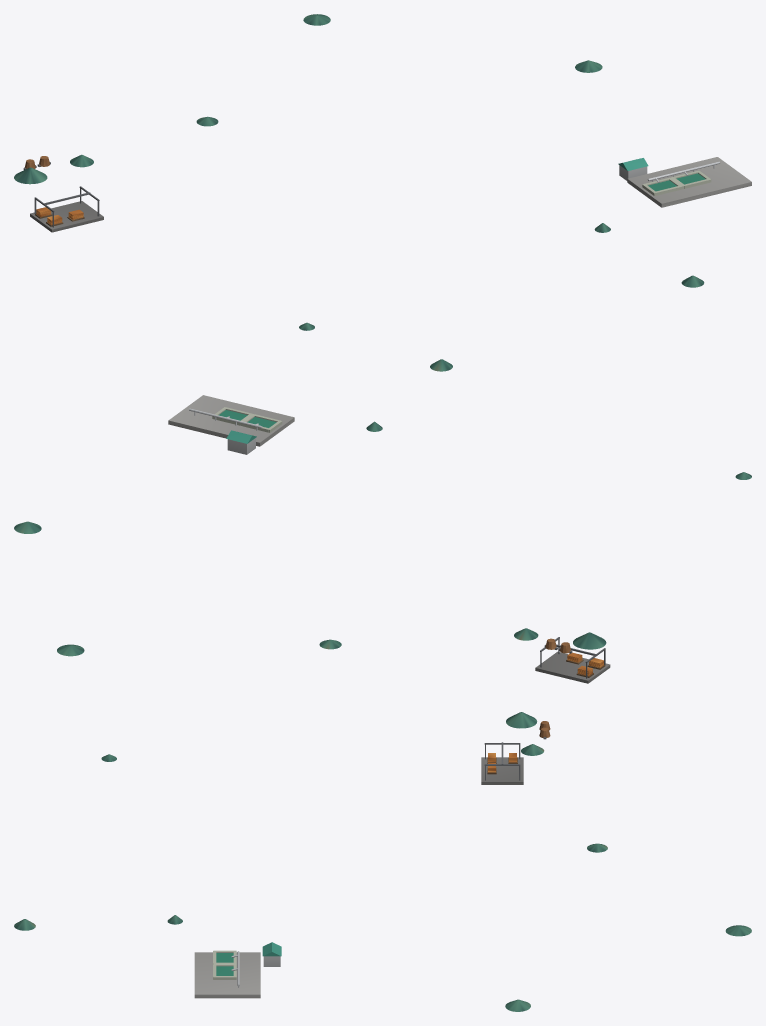
The model's file is Theme_P2.fbx.
3 renders of one model, top to bottom at view 1: azimuth 30°, elevation 25°; view 2: azimuth 150°, elevation 25°; view 3: azimuth 270°, elevation 25°, orthographic. The views are drawn at different scales.
Parts seen in each view (by area): view 1: Theme.LeachPonds, Theme.CathodeYard; view 2: Theme.LeachPonds, Theme.CathodeYard, Theme.PumpHouse; view 3: Theme.LeachPonds, Theme.CathodeYard.
Part boxes in pixels (<box>): Theme.LeachPonds: <box>627,157,751,207</box>; Theme.CathodeYard: <box>30,186,103,232</box>; Theme.LeachPonds: <box>168,395,294,446</box>; Theme.CathodeYard: <box>535,637,610,683</box>; Theme.PumpHouse: <box>226,430,256,454</box>; Theme.LeachPonds: <box>194,950,260,998</box>; Theme.CathodeYard: <box>481,742,523,784</box>.
Bounding box in the file's own units: 24532 × 1987 × 27964.
